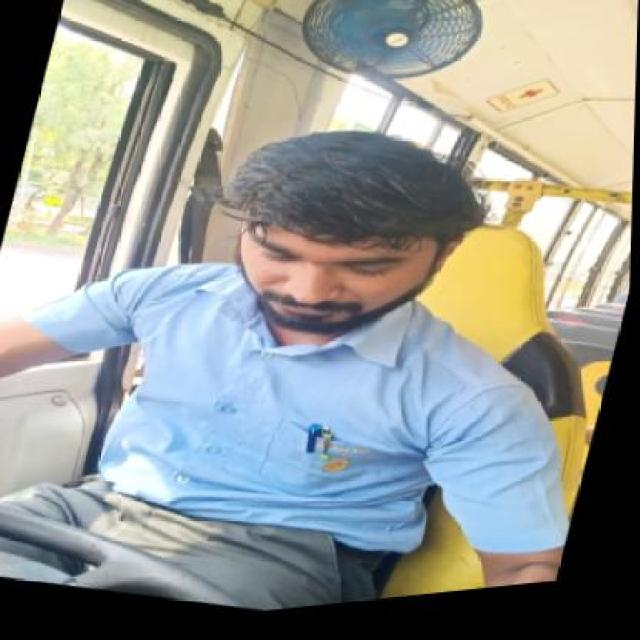Inattentive: (236, 126, 486, 332)
